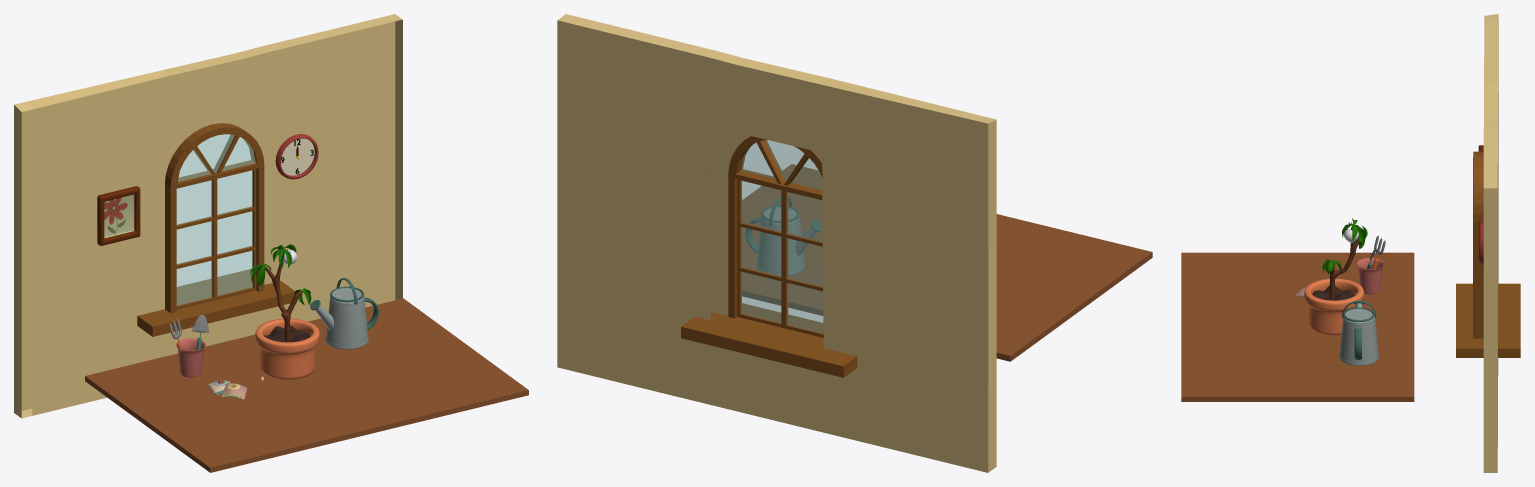
The model's file is Escena_full_final_ojala_xd (1).fbx.
3 renders of one model, left to right at view 1: azimuth 30°, elevation 25°; view 2: azimuth 150°, elevation 25°; view 3: azimuth 270°, elevation 25°, orthographic. The views are drawn at different scales.
Visible parts, largest first — view 1: PARED, MESA_BASE, VENTANA_MARCO, VENTANA_PUERT_DER, VENTANA_PUERT_IZQ, VENTANA_MARCO_BASE, MATERA, CUADRO, VENTANA_VIDRIO_SUP, REGADERA_INT, RELOJ, VALDE (+1 smaller); view 2: PARED, MESA_BASE, VENTANA_PUERT_DER, VENTANA_MARCO_BASE, VENTANA_PUERT_IZQ, VENTANA_MARCO, VENTANA_VIDRIO_SUP, REGADERA_INT; view 3: MESA_BASE, PARED, VENTANA_MARCO_BASE, MATERA, VENTANA_MARCO, REGADERA_INT, VALDE, PLANTA_ADULTA, Cylinder.002, MATERA_TIERRA.
Part boxes in pixels (x1,y1,x2,y2): PARED: [14, 14, 402, 418]; MESA_BASE: [85, 298, 528, 472]; VENTANA_MARCO: [165, 123, 264, 313]; VENTANA_PUERT_DER: [215, 169, 256, 300]; VENTANA_PUERT_IZQ: [176, 179, 215, 309]; VENTANA_MARCO_BASE: [137, 269, 294, 336]; MATERA: [255, 318, 319, 379]; CUADRO: [97, 186, 140, 245]; VENTANA_VIDRIO_SUP: [178, 134, 255, 181]; REGADERA_INT: [326, 296, 368, 349]; RELOJ: [275, 134, 318, 179]; VALDE: [176, 338, 205, 377]; PARED: [557, 14, 996, 472]; MESA_BASE: [742, 164, 1152, 361]; VENTANA_PUERT_DER: [737, 179, 783, 327]; VENTANA_MARCO_BASE: [681, 303, 857, 377]; VENTANA_PUERT_IZQ: [783, 190, 823, 337]; VENTANA_MARCO: [728, 136, 822, 318]; VENTANA_VIDRIO_SUP: [741, 140, 822, 190]; REGADERA_INT: [757, 216, 804, 275]; MESA_BASE: [1181, 252, 1414, 401]; PARED: [1483, 14, 1498, 472]; VENTANA_MARCO_BASE: [1456, 283, 1520, 357]; MATERA: [1304, 278, 1363, 335]; VENTANA_MARCO: [1473, 151, 1483, 338]; REGADERA_INT: [1339, 316, 1378, 365]; VALDE: [1356, 258, 1384, 294]; PLANTA_ADULTA: [1329, 226, 1360, 299]; Cylinder.002: [1343, 307, 1374, 321]; MATERA_TIERRA: [1312, 286, 1355, 300].
Bounding box in the file's own units: 976 × 909 × 1174.
